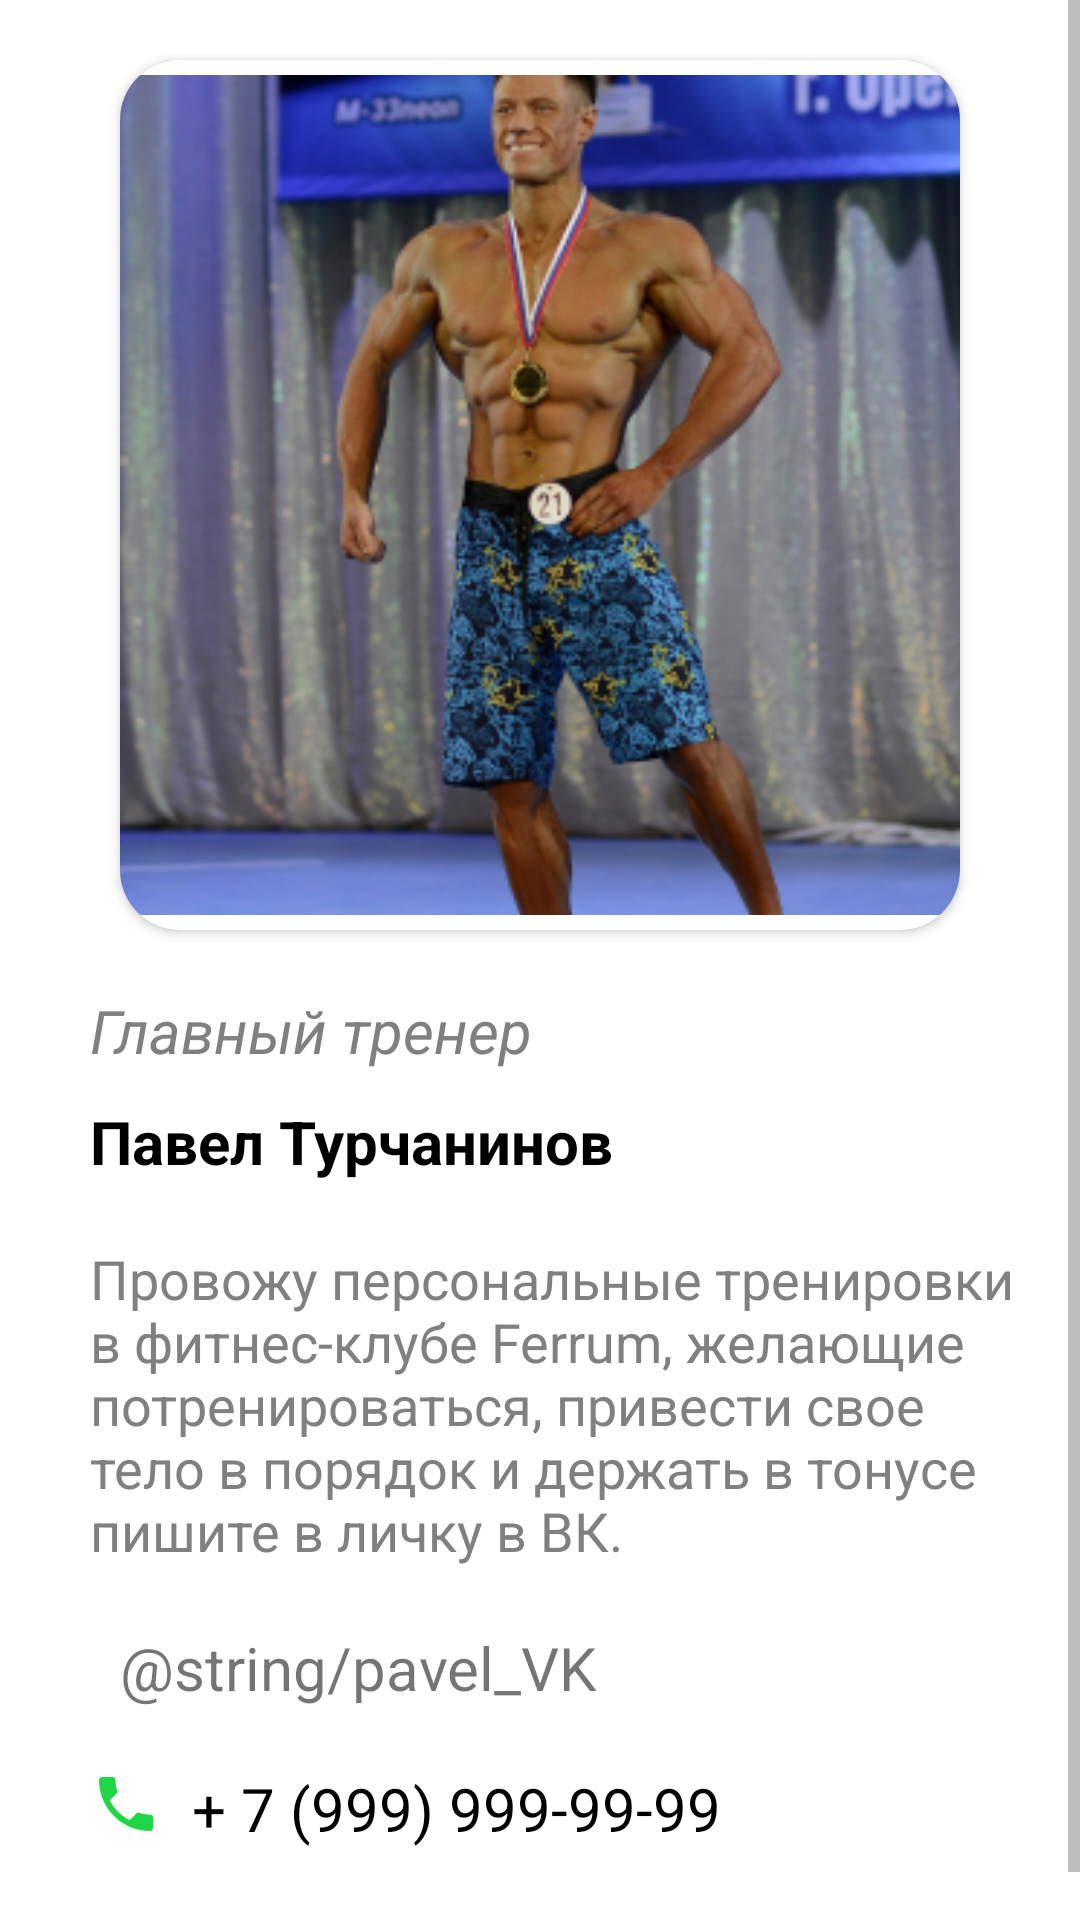

Screen size 1080×1920. Icon name, then its box in pixels as (x1, y1, x2, y2):
phone: (99, 1777, 153, 1831)
